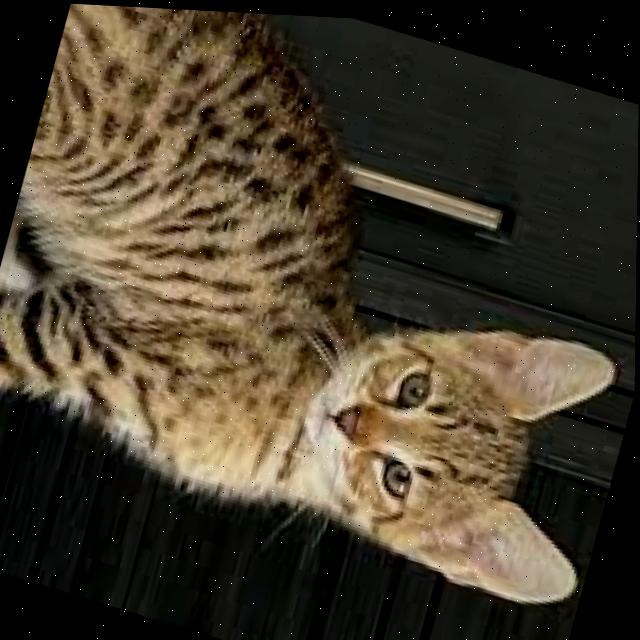Savannah: (0, 0, 640, 620)
